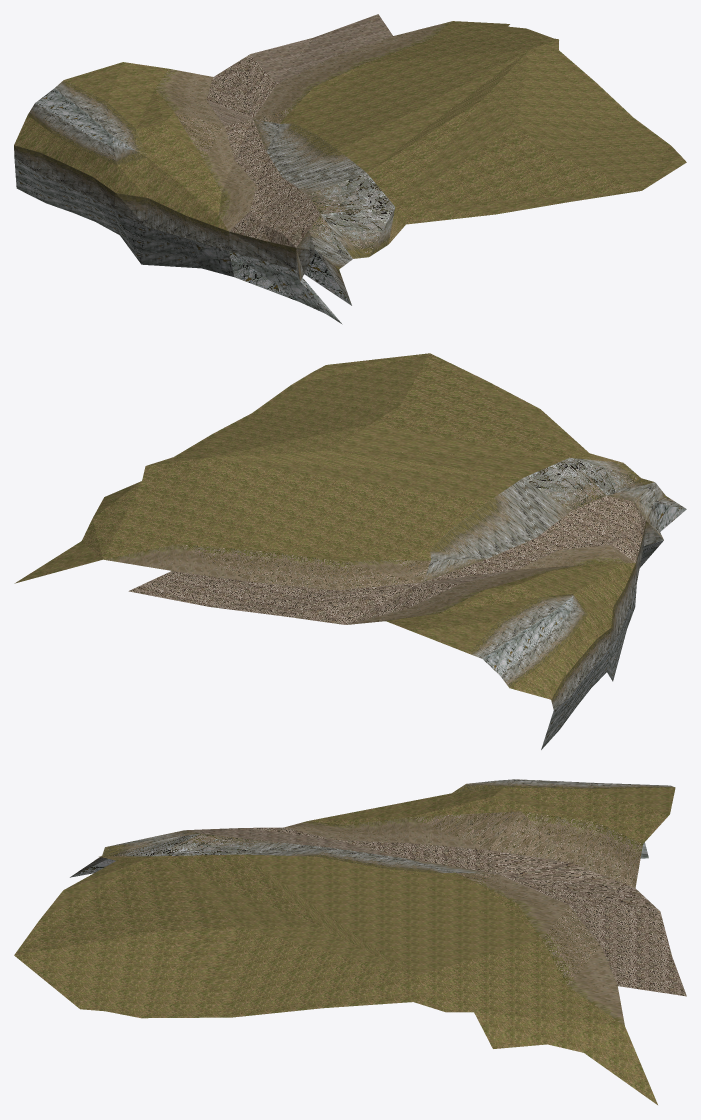
File: lodcunts11.obj
3 renders of one model, top to bottom at view 1: azimuth 30°, elevation 25°; view 2: azimuth 150°, elevation 25°; view 3: azimuth 270°, elevation 25°, orthographic. The views are drawn at different scales.
Parts seen in each view (by area): view 1: LODcunts11; view 2: LODcunts11; view 3: LODcunts11.
Boxes of the visible parts, x1=… form: LODcunts11: x1=14, y1=14, x2=686, y2=324; LODcunts11: x1=14, y1=353, x2=686, y2=749; LODcunts11: x1=14, y1=779, x2=686, y2=1104.
Size of the model in its own units: 247 by 57.45 by 233.
6 materials, 6 textured.
